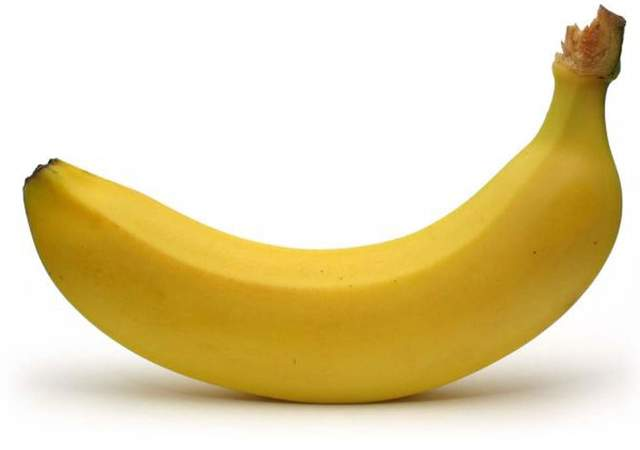banana: (11, 8, 634, 408)
